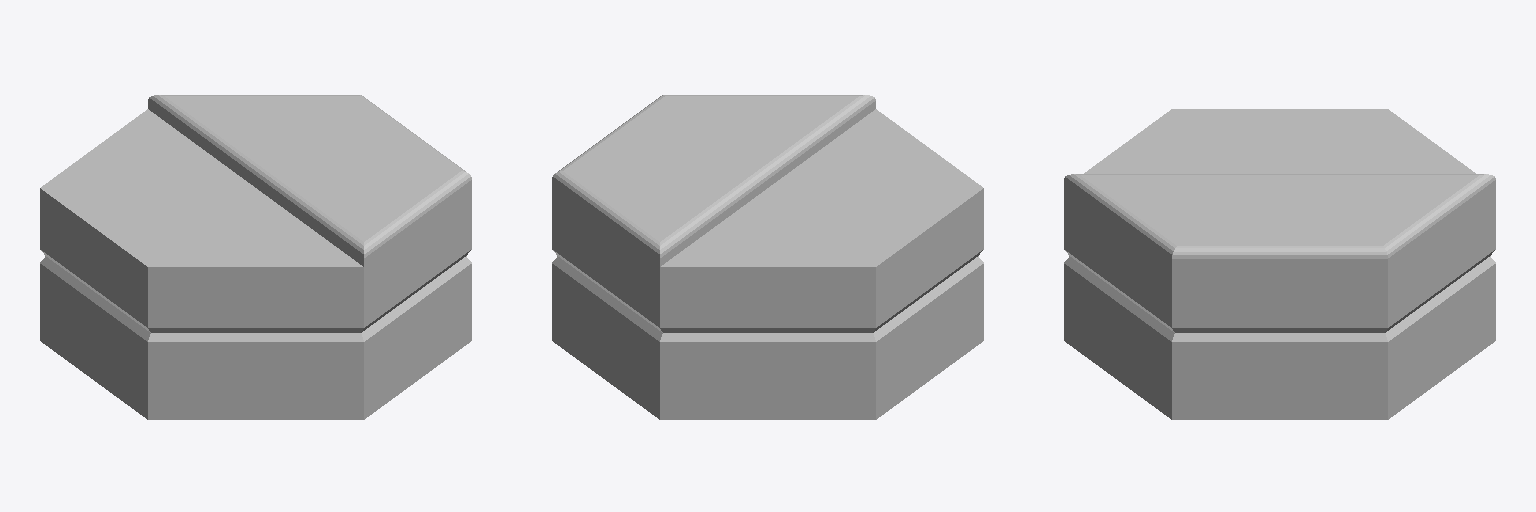
The model's file is hex_sand_waterB_detail.obj.
The picture shows the model from 3 angles: view 1: azimuth 30°, elevation 25°; view 2: azimuth 150°, elevation 25°; view 3: azimuth 270°, elevation 25°; orthographic projection.
Parts seen in each view (by area): view 1: hex_sand_waterB_detail_Cylinder.618; view 2: hex_sand_waterB_detail_Cylinder.618; view 3: hex_sand_waterB_detail_Cylinder.618.
Part boxes in pixels (x1,y1,x2,y2): hex_sand_waterB_detail_Cylinder.618: (40,95,471,419); hex_sand_waterB_detail_Cylinder.618: (552,95,983,419); hex_sand_waterB_detail_Cylinder.618: (1064,109,1495,419).
Size of the model in its own units: 2 by 1 by 2.31.